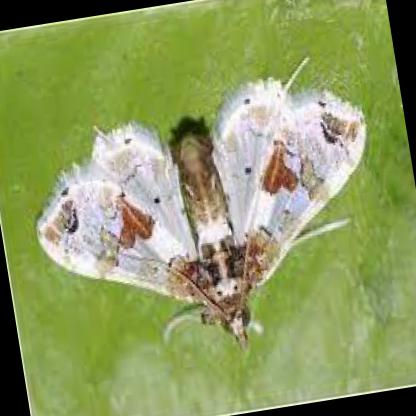leucinodes: (35, 80, 366, 354)
